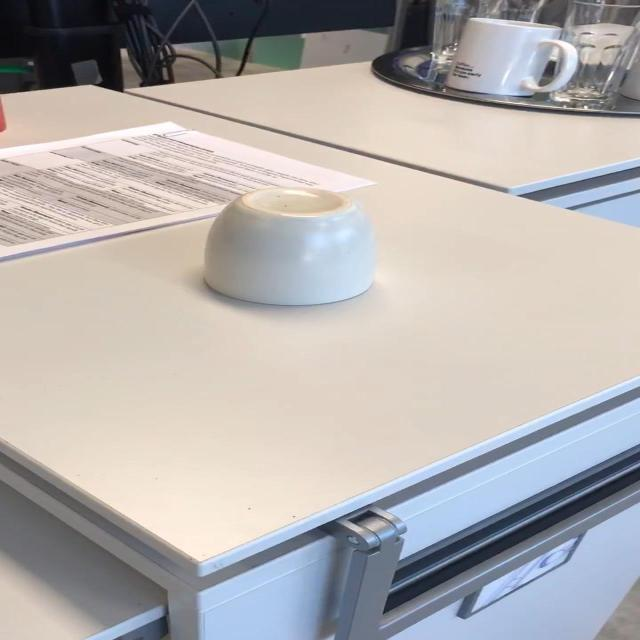cup: (204, 186, 372, 304)
